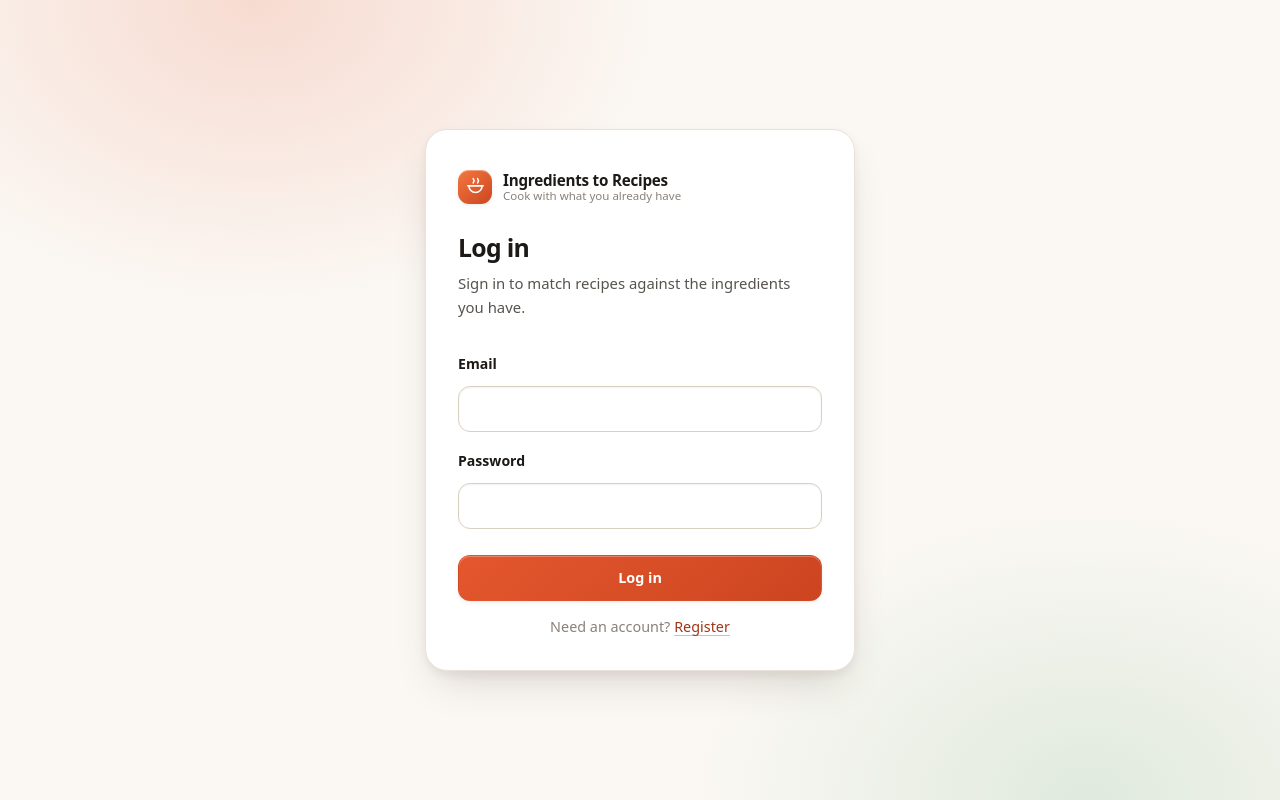
Test: LoginPage › displays a safe authentication error
Type "test@example.com" into the field labelled "Email".
click(640, 409); type("test@example.com")  # box [458,386,822,432]
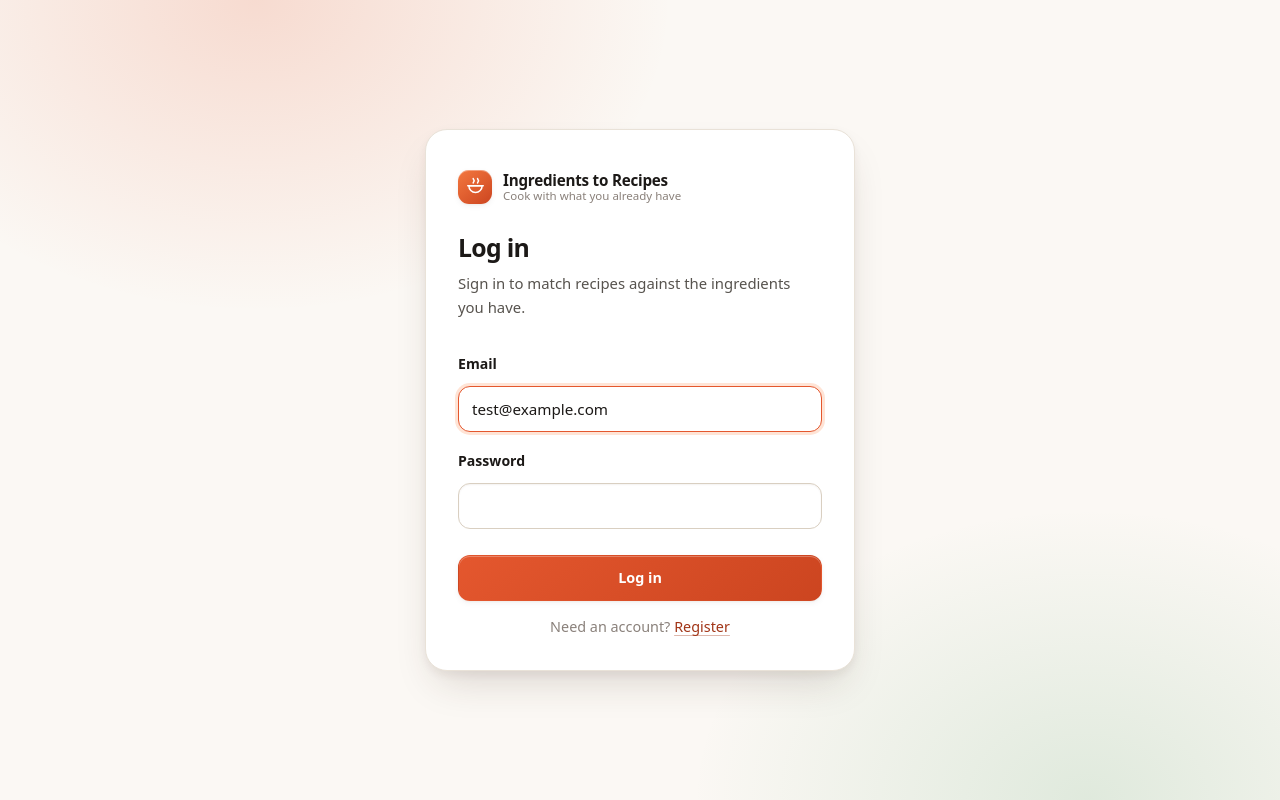
Type "wrong-password" into the password field labelled "Password".
click(640, 506); type("wrong-password")  # box [458,483,822,529]
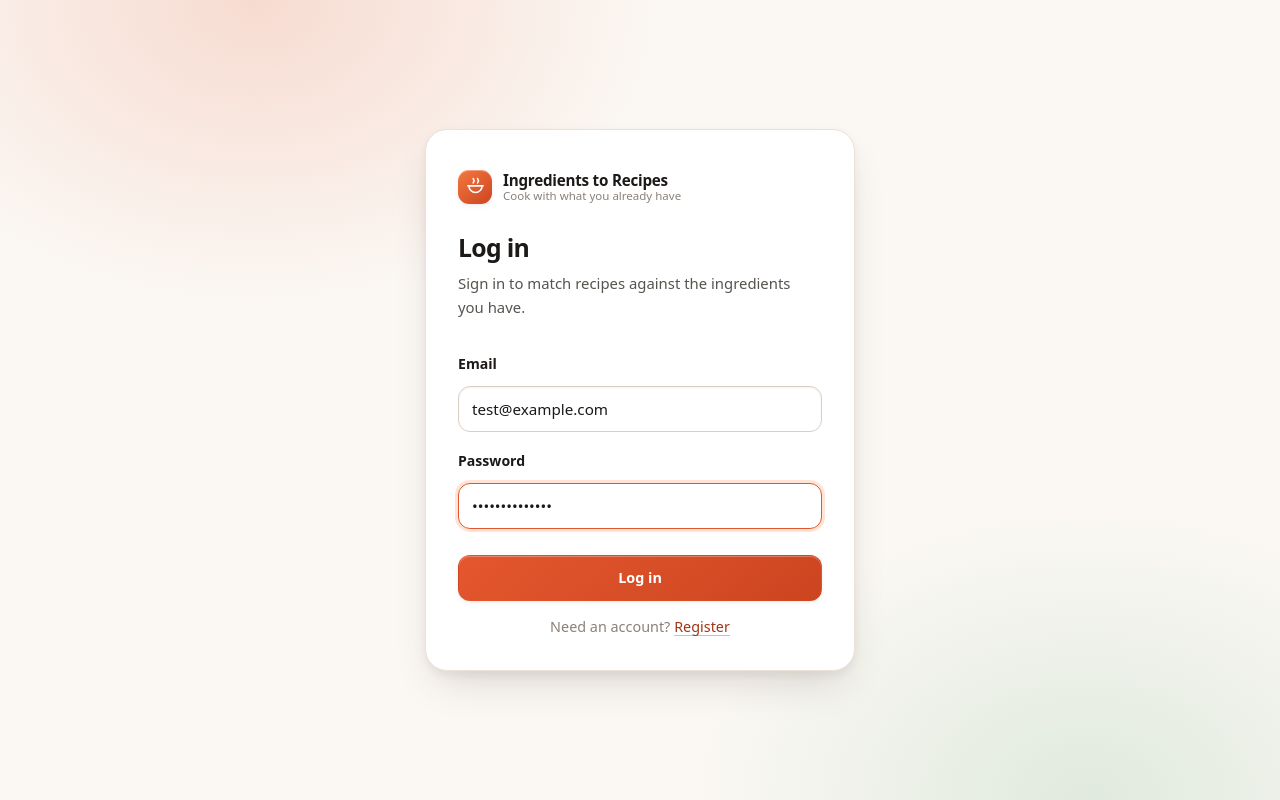
Click the button "Log in".
click(640, 578)  # box [458,555,822,601]
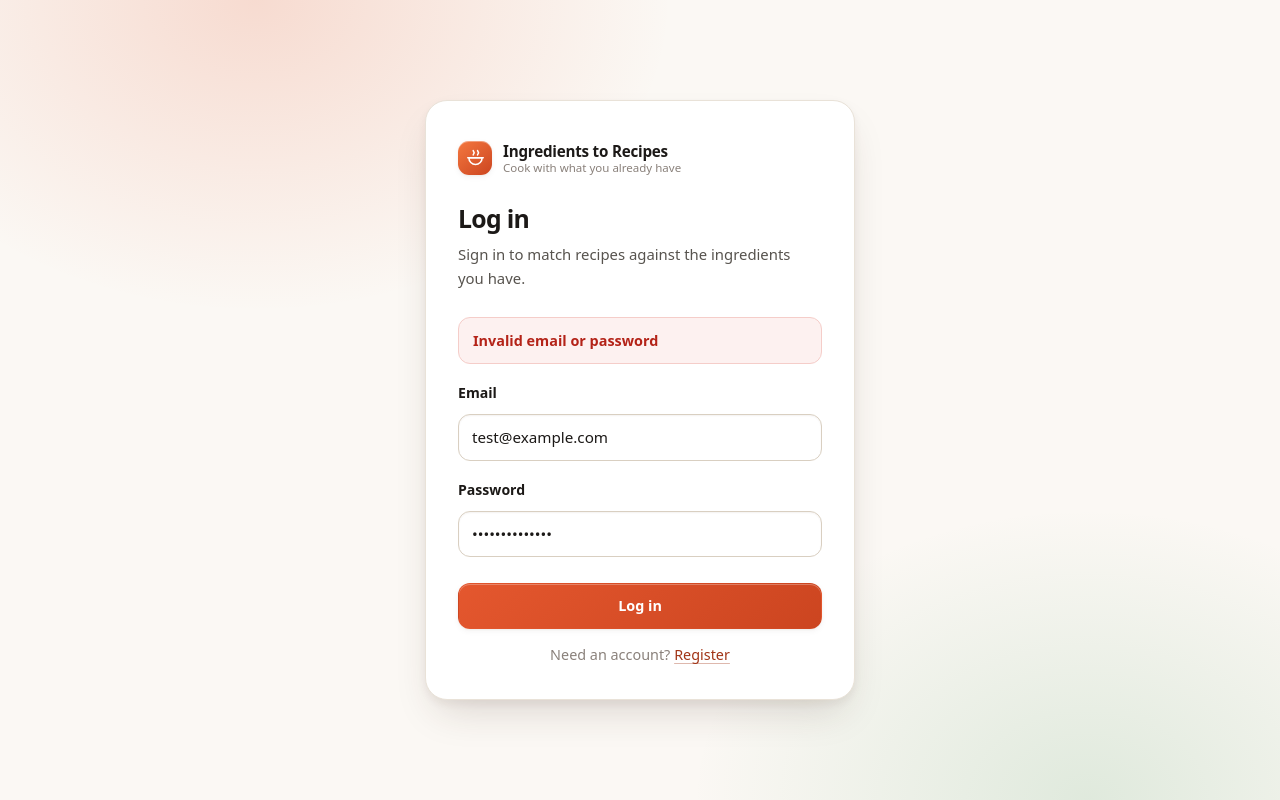
expect the message reads "Invalid email or password": met, box [473,331,658,350]
